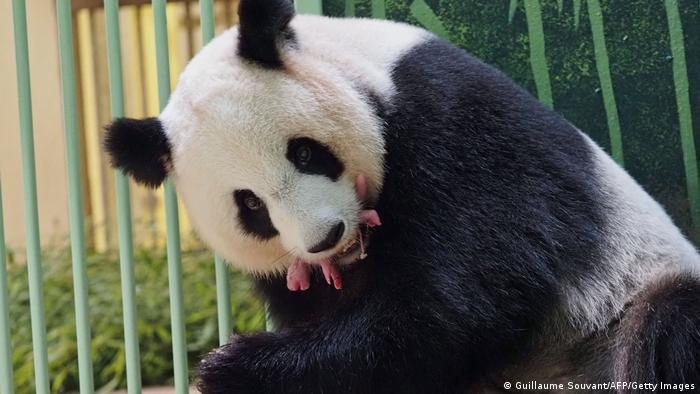panda: (95, 6, 658, 394)
